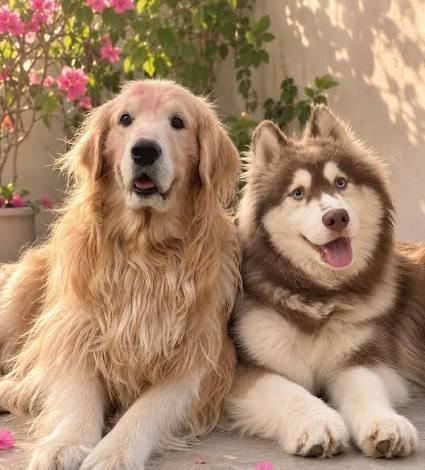adult_dog: (0, 79, 244, 470), (221, 108, 425, 458)
